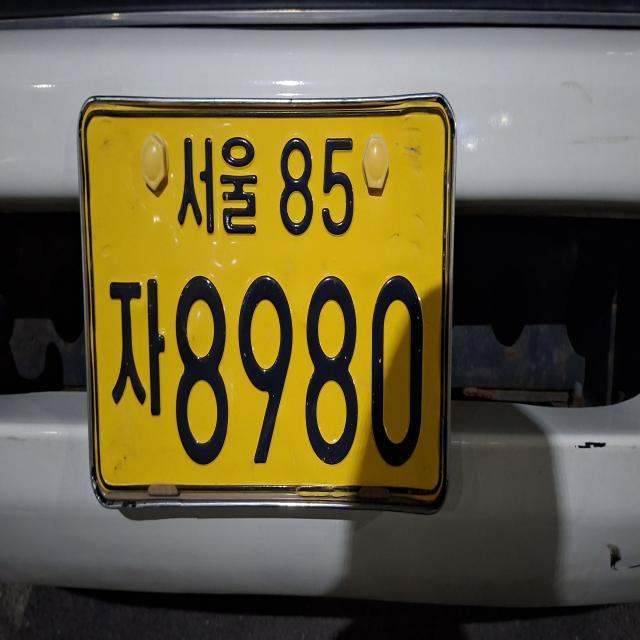car: (75, 65, 459, 528)
